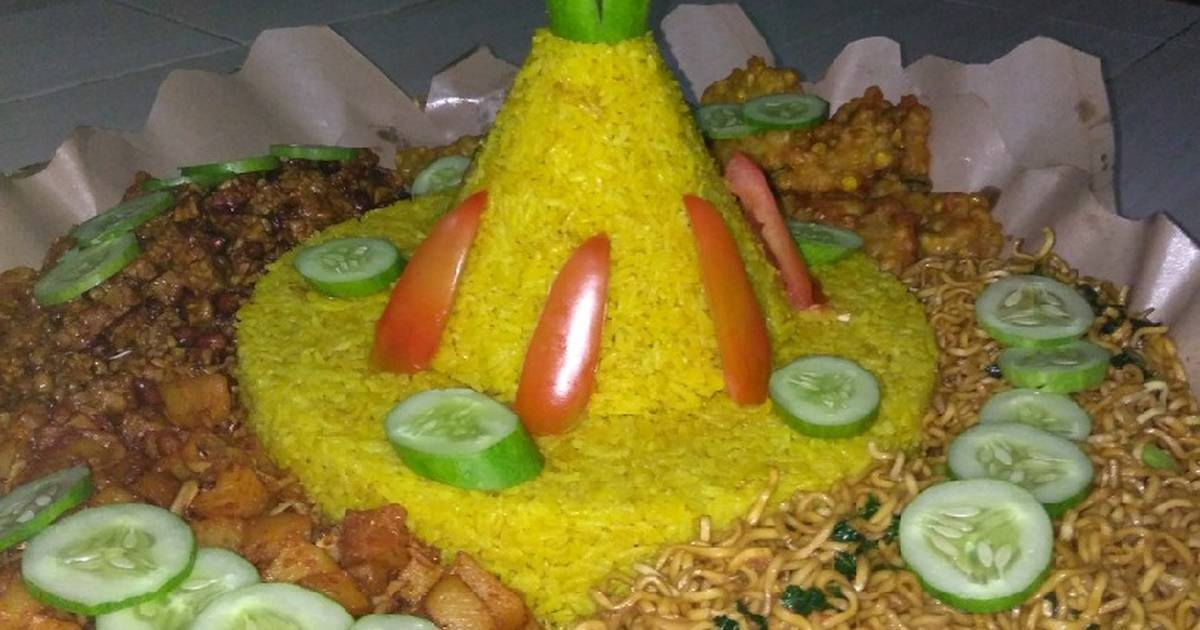tumpeng: (468, 4, 804, 398)
